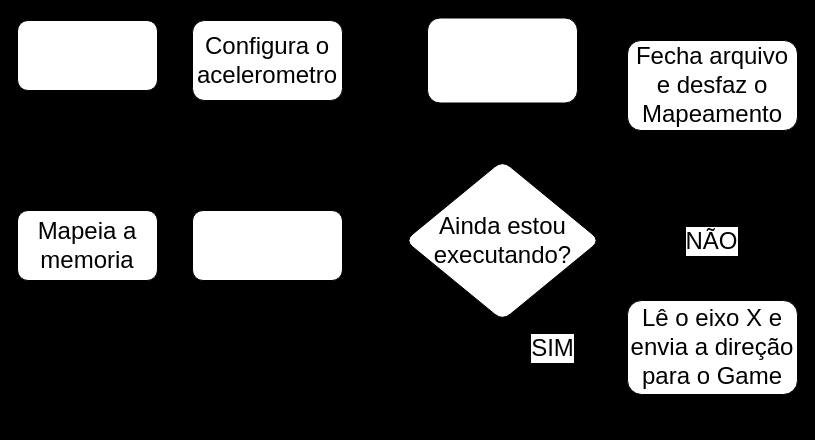
Image size: 815x440. Some labels were removed from this diagram. Here are the shapes that lost their labels. From the top down, the centre of each, then its label:
the point at 87,55: Abre o /dev/mem
the point at 502,60: Calibra o acelerometro
the point at 267,245: Configura o I2C
